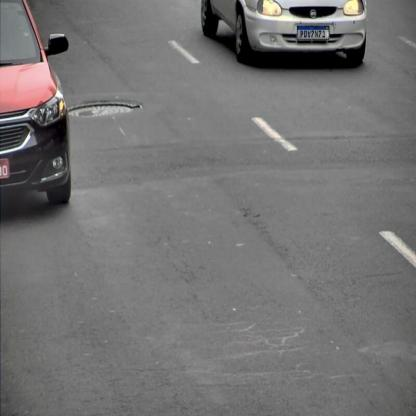PlacaM: (297, 26, 329, 40)
